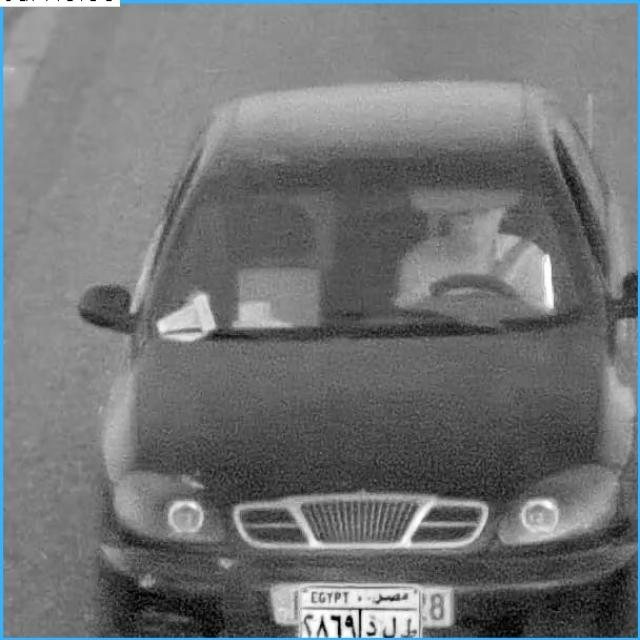windshield: (152, 172, 590, 334)
